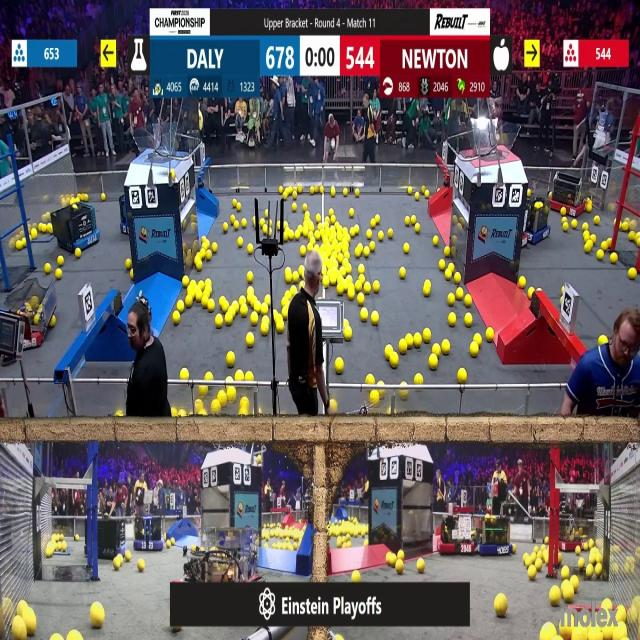ball_ground: (92, 603, 105, 628), (494, 594, 506, 616), (550, 588, 562, 606), (540, 624, 553, 640), (27, 618, 37, 636), (563, 587, 573, 603), (336, 357, 345, 373), (458, 368, 467, 382), (398, 340, 407, 354), (226, 384, 235, 398), (443, 341, 451, 355), (370, 312, 378, 326), (429, 355, 437, 369), (464, 313, 472, 327), (246, 334, 254, 348), (395, 560, 403, 574), (528, 566, 536, 580), (328, 399, 336, 413), (196, 290, 204, 304), (352, 570, 361, 582), (386, 554, 395, 566), (240, 406, 249, 418), (418, 560, 426, 573), (562, 566, 570, 579), (469, 344, 477, 357), (114, 557, 122, 570), (224, 313, 232, 326), (385, 345, 393, 358), (414, 335, 422, 348), (587, 564, 595, 577), (369, 391, 378, 402), (424, 282, 431, 296), (226, 352, 233, 366), (173, 312, 180, 326), (360, 310, 368, 322), (215, 315, 223, 327), (138, 559, 146, 571), (423, 328, 431, 340), (486, 328, 494, 340), (250, 313, 258, 325), (180, 367, 188, 379), (208, 300, 216, 312), (390, 354, 398, 366), (356, 292, 364, 304), (262, 322, 270, 334), (69, 632, 81, 640), (355, 282, 363, 294), (570, 576, 578, 588), (345, 327, 352, 340), (348, 287, 355, 300), (285, 271, 292, 284), (585, 242, 593, 253), (236, 368, 244, 379), (464, 294, 471, 306), (449, 314, 456, 326), (454, 273, 461, 285), (241, 306, 248, 318), (595, 564, 602, 576), (277, 321, 284, 333), (219, 296, 226, 308), (304, 230, 313, 239), (415, 374, 423, 384), (365, 375, 373, 385), (245, 372, 253, 382), (396, 552, 404, 562), (262, 306, 270, 316), (445, 270, 453, 280), (246, 294, 254, 304), (534, 560, 542, 570), (15, 240, 23, 250), (519, 277, 526, 288), (323, 277, 330, 288), (177, 302, 184, 313), (629, 269, 636, 280), (432, 344, 439, 355), (363, 283, 370, 294), (374, 282, 381, 293), (185, 295, 192, 306), (204, 286, 211, 297), (233, 302, 240, 313), (44, 548, 51, 559), (399, 268, 405, 280), (598, 337, 606, 346), (195, 260, 201, 272), (282, 308, 288, 320), (127, 260, 133, 272), (524, 554, 530, 566), (597, 250, 604, 260), (456, 288, 463, 298), (126, 552, 133, 562), (31, 230, 38, 240), (353, 225, 360, 235), (329, 276, 336, 286), (610, 252, 616, 263), (56, 269, 62, 280), (247, 273, 253, 284), (403, 243, 409, 254), (449, 293, 455, 304), (440, 261, 446, 272), (356, 247, 362, 258), (297, 267, 303, 278), (292, 272, 298, 283), (200, 386, 208, 394), (240, 295, 247, 304), (205, 251, 212, 260), (399, 390, 406, 399), (346, 275, 353, 284), (629, 233, 636, 242), (308, 222, 315, 231), (324, 214, 331, 223), (388, 230, 394, 240), (182, 277, 188, 287), (75, 248, 81, 258), (299, 246, 305, 256), (212, 242, 218, 252), (432, 237, 438, 247), (363, 247, 369, 257), (338, 284, 344, 294), (445, 247, 451, 257), (44, 265, 50, 275), (602, 241, 608, 251), (584, 232, 590, 242), (283, 232, 289, 242), (238, 238, 244, 248), (346, 266, 352, 276), (305, 240, 311, 250), (588, 203, 594, 213), (577, 558, 583, 568), (339, 253, 345, 263), (49, 317, 55, 327), (253, 304, 259, 314), (288, 231, 294, 241), (557, 554, 563, 564), (473, 336, 480, 344), (206, 373, 213, 381), (339, 268, 346, 276), (226, 376, 234, 383), (313, 244, 320, 252), (274, 310, 281, 318), (528, 287, 533, 298), (379, 233, 385, 242), (563, 222, 569, 231), (358, 266, 364, 275), (403, 216, 409, 225), (571, 219, 577, 228), (449, 264, 455, 273), (315, 232, 321, 241), (199, 280, 205, 289), (172, 410, 178, 419), (282, 220, 288, 229), (189, 279, 195, 288), (202, 241, 208, 250), (46, 224, 52, 233), (59, 255, 64, 265), (248, 244, 253, 254), (366, 231, 371, 241), (242, 218, 247, 228), (369, 242, 374, 252), (294, 231, 299, 241), (542, 554, 547, 564), (179, 411, 186, 418), (316, 214, 322, 222), (247, 286, 253, 294), (348, 209, 354, 217), (386, 410, 392, 418), (51, 634, 59, 640), (369, 219, 375, 227), (282, 191, 288, 199), (276, 220, 282, 228), (297, 280, 303, 288), (234, 202, 240, 210), (290, 285, 296, 293), (318, 221, 324, 229), (358, 275, 364, 283), (291, 190, 297, 198), (62, 542, 68, 550), (267, 294, 272, 303), (415, 223, 420, 232), (222, 222, 227, 231), (235, 220, 240, 229), (561, 208, 566, 217), (584, 222, 590, 229), (259, 218, 265, 225), (321, 269, 327, 276), (595, 216, 600, 224), (412, 215, 417, 223), (190, 544, 195, 552), (355, 188, 360, 196), (330, 188, 335, 196), (304, 204, 309, 212), (328, 208, 333, 216), (264, 225, 269, 233), (575, 546, 580, 554), (282, 297, 287, 305), (252, 217, 257, 225), (344, 188, 349, 196), (376, 215, 381, 223), (305, 212, 310, 220), (202, 249, 206, 259), (514, 543, 518, 552), (206, 280, 212, 286), (636, 238, 640, 247), (527, 188, 532, 195), (562, 216, 567, 223), (229, 216, 234, 223), (75, 534, 80, 541), (279, 186, 284, 193), (83, 195, 88, 202), (131, 272, 135, 280), (364, 538, 368, 546), (330, 215, 334, 223), (171, 537, 175, 545), (592, 235, 596, 243), (345, 319, 349, 327), (416, 192, 420, 200), (266, 209, 270, 217), (100, 195, 104, 202), (292, 205, 296, 212), (425, 190, 429, 197), (544, 536, 548, 543), (409, 187, 413, 194)
goal: (464, 121, 520, 160), (130, 129, 189, 160)
robot_blue: (56, 193, 100, 252), (476, 515, 512, 556), (522, 198, 552, 245), (98, 516, 128, 558), (132, 517, 165, 552)
robot_red: (0, 284, 54, 349), (550, 166, 591, 213), (440, 513, 481, 555), (559, 514, 589, 550)
